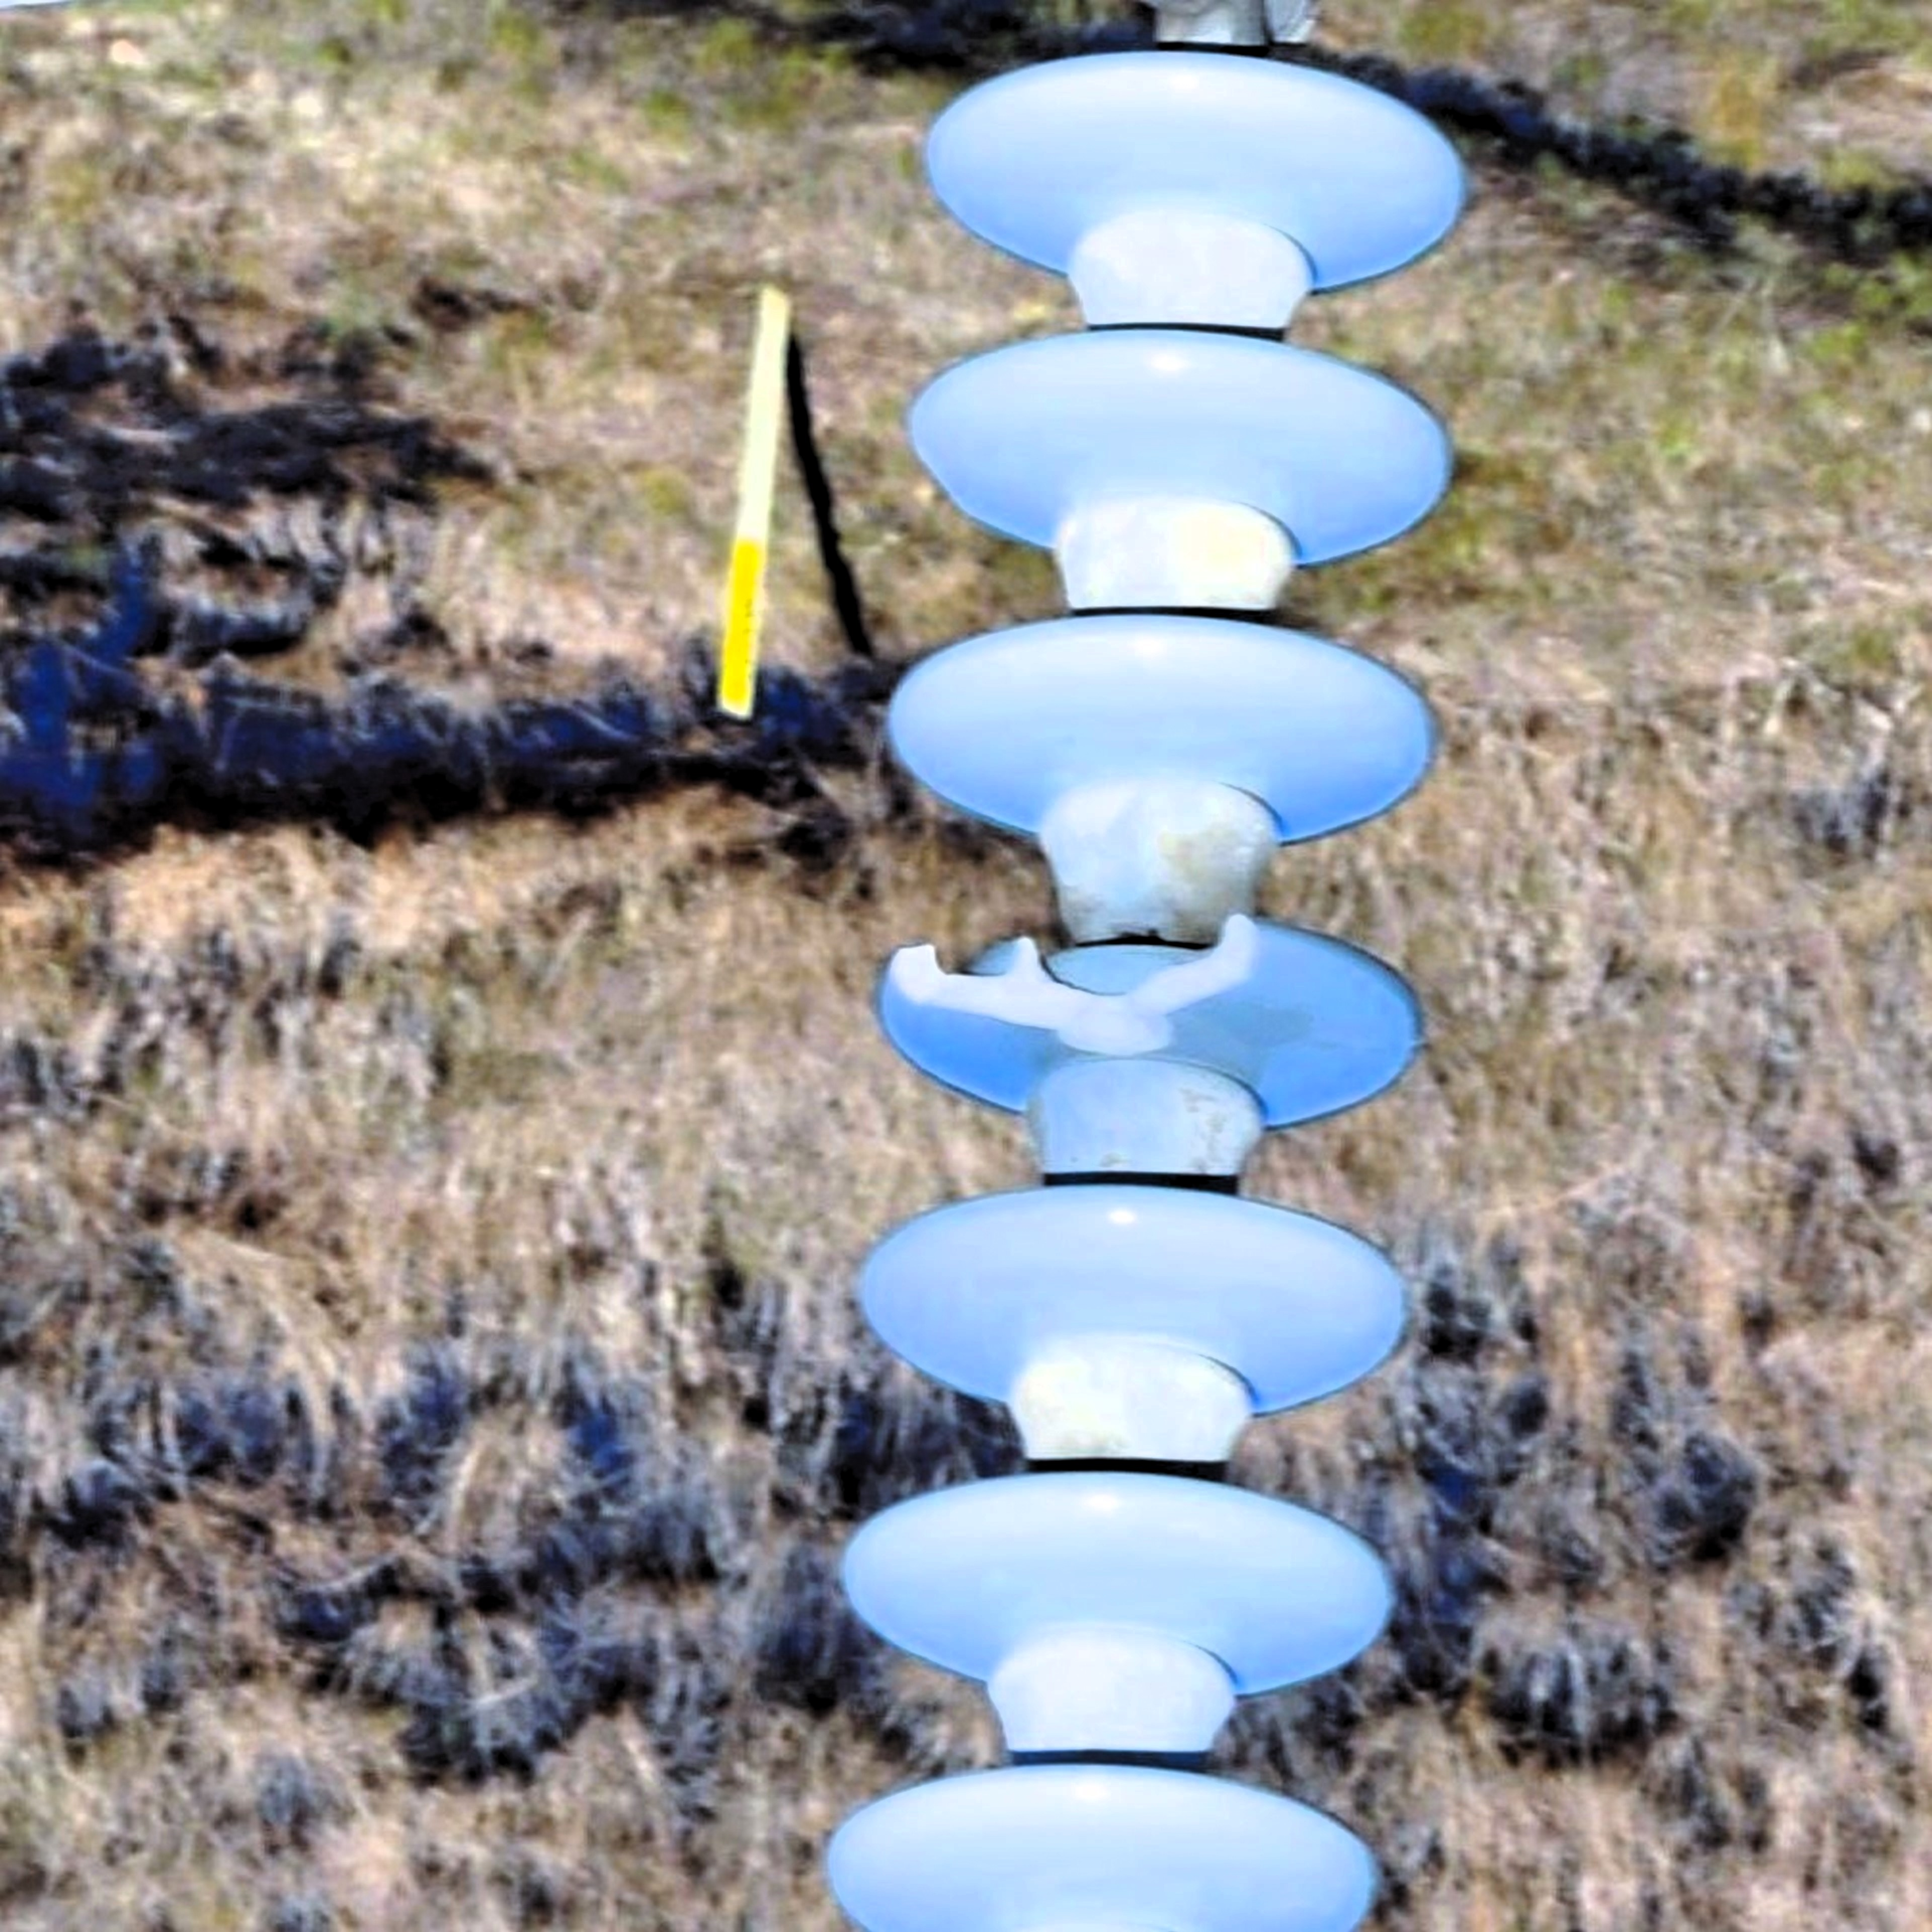insulator breakage: (856, 906, 1428, 1127)
